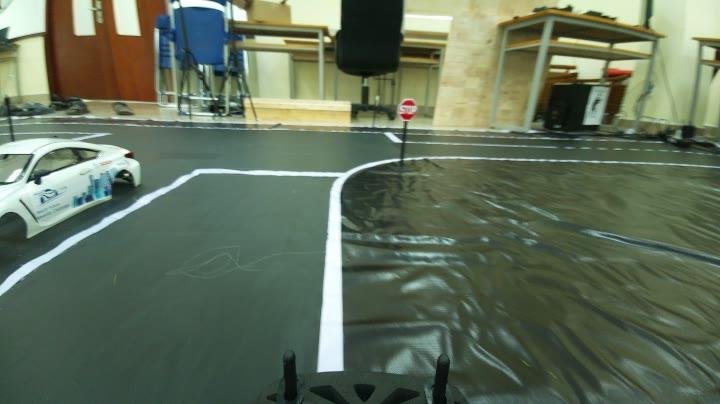stop: (390, 94, 426, 129)
